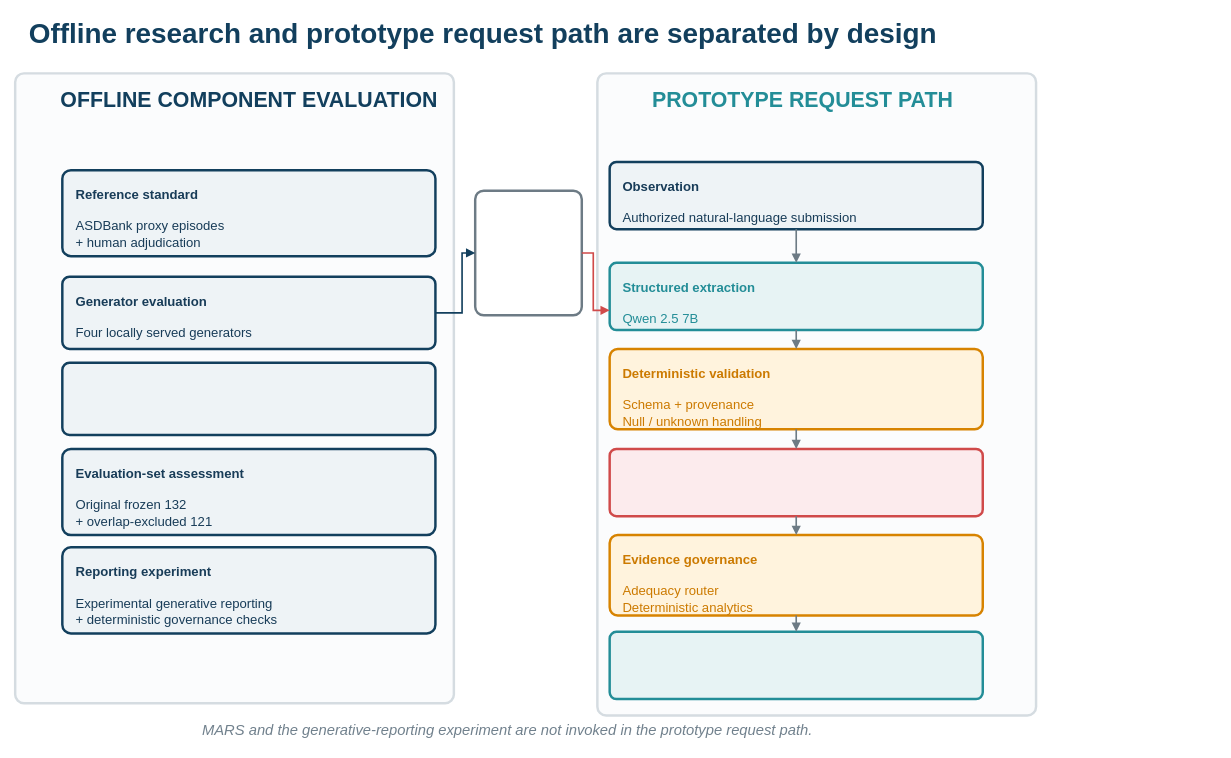
Image size: 1231x758. Some labels were removed from this diagram. The centre of each missing label's shape, as x and y in pixels:
"Operational report Deterministic evidence-linked report" goes at point (796, 665).
"Professional verification Mandatory verify / correct / reject" goes at point (796, 482).
"Reranking experiment MARS: original 3-generator roster" goes at point (248, 398).
"Research findings inform model choice + safeguards" goes at point (528, 252).
